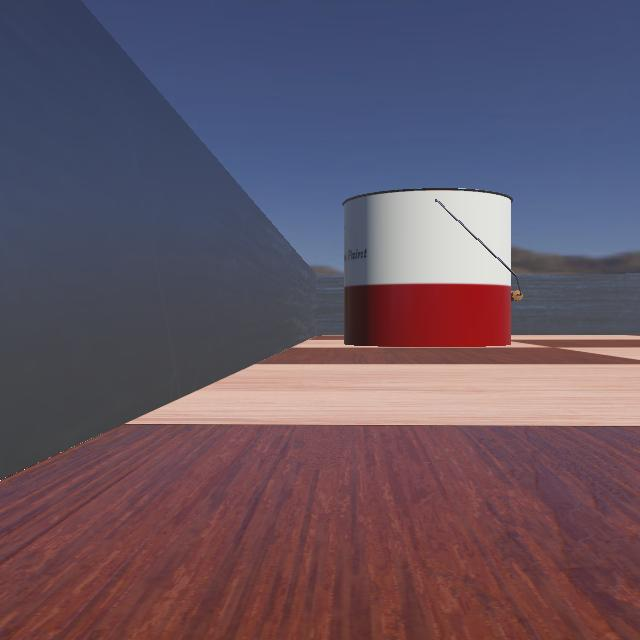paint-bucket: (338, 185, 544, 348)
